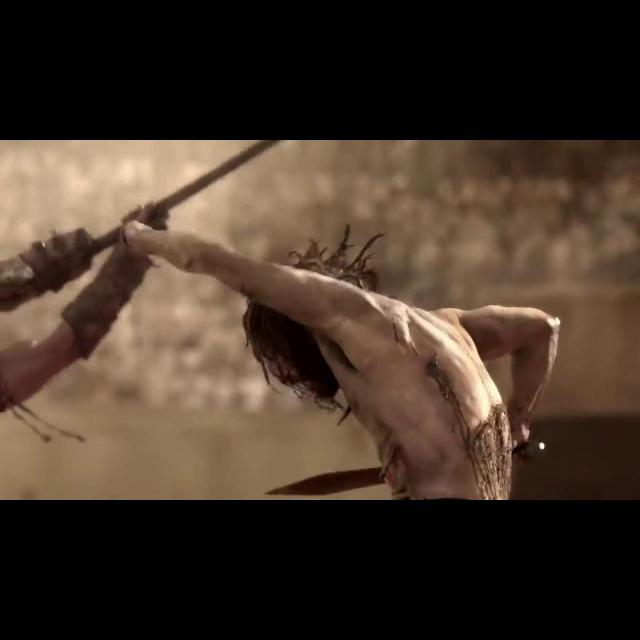blood: (426, 356, 513, 500), (380, 442, 412, 500), (391, 320, 420, 355)
